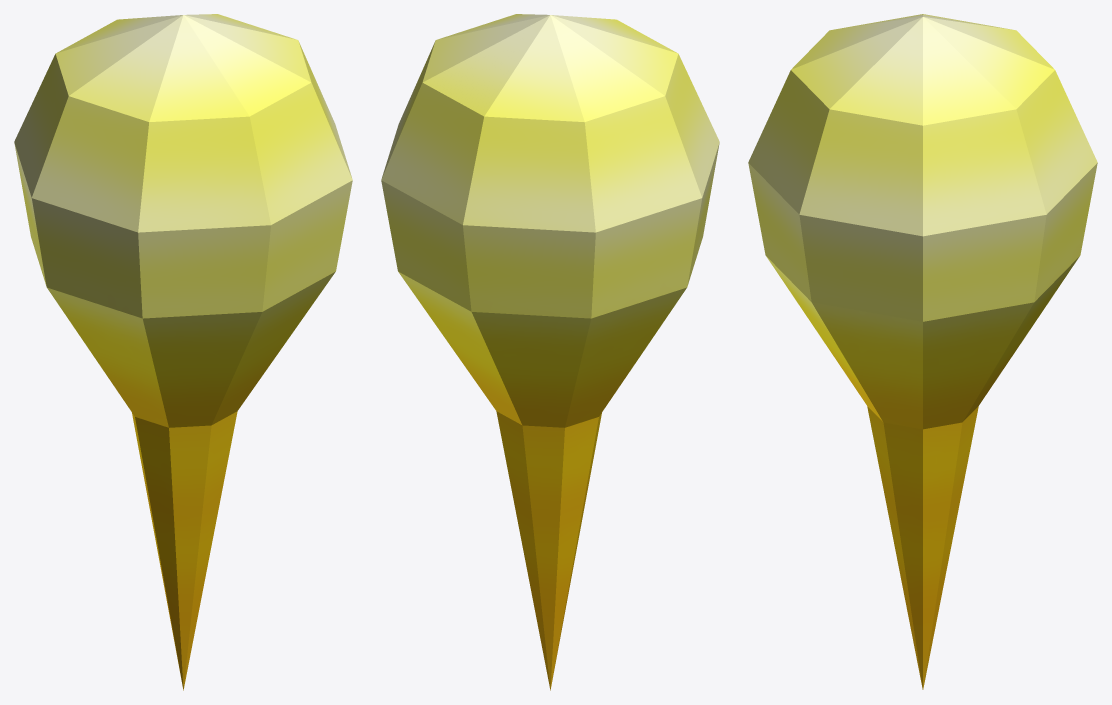
The model's file is Asset_UI_PointerSOL.fbx.
3 views of the same model, side by side, from view 1: azimuth 30°, elevation 25°; view 2: azimuth 150°, elevation 25°; view 3: azimuth 270°, elevation 25° (orthographic).
Visible parts, largest first — view 1: Asset_PointeurSOL; view 2: Asset_PointeurSOL; view 3: Asset_PointeurSOL.
Part boxes in pixels (<box>): Asset_PointeurSOL: <box>14,14,352,690</box>; Asset_PointeurSOL: <box>381,14,719,690</box>; Asset_PointeurSOL: <box>748,14,1097,689</box>.
Bounding box in the file's own units: 3.48 × 7.42 × 3.48.
